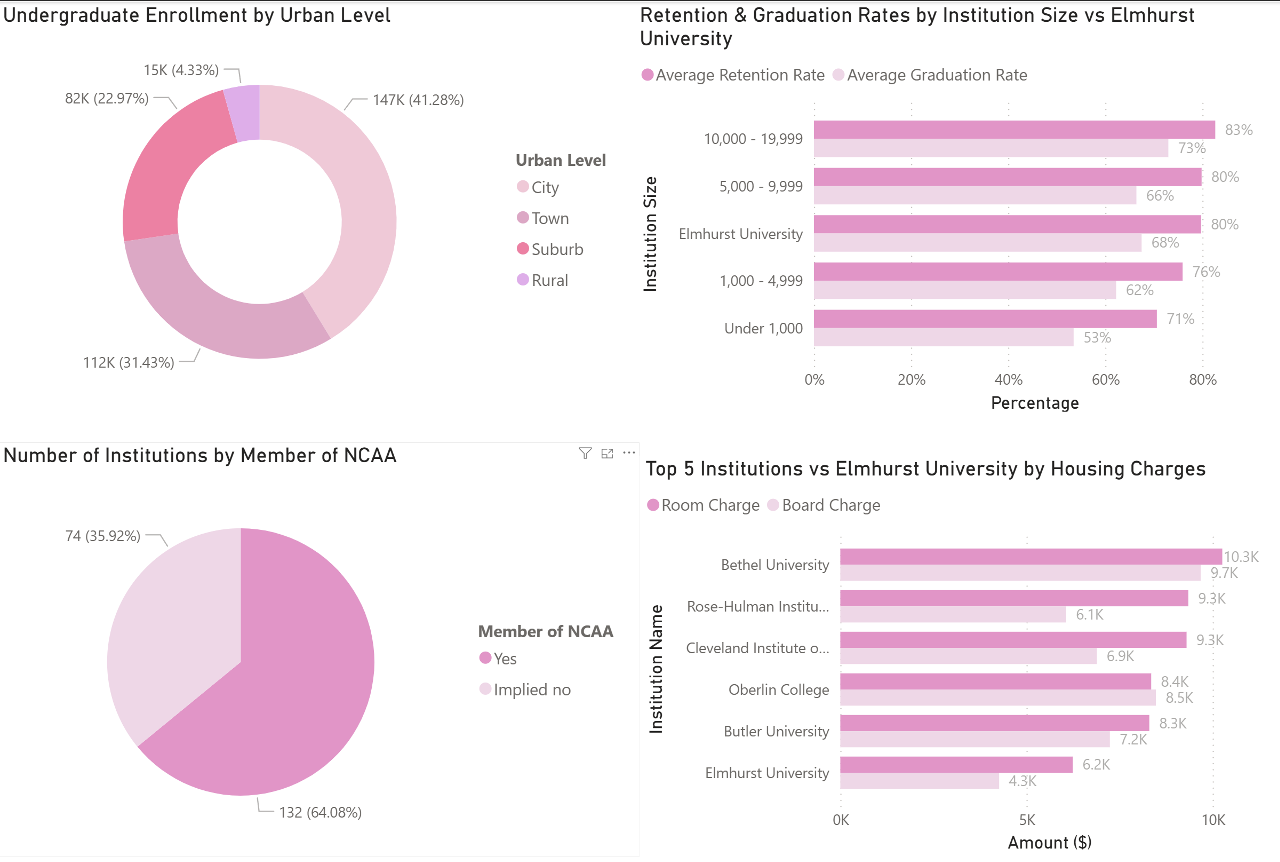

The dashboard page shown, as its layout file describes it:
{"tool":"powerbi","page":{"name":"2019 (2)","canvas":[1280,720],"ordinal":1},"visuals":[{"type":"pieChart","title":"Number of Institutions by Member of NCAA","fields":{"Y":["Sum(Table1.Column2)"],"Category":["Table1.Member of National Collegiate Athletic Association (NCAA)"]},"box":[0,359.7,525.1,338.7],"z":0},{"type":"clusteredBarChart","title":"Retention & Graduation Rates by Institution Size vs Elmhurst University","fields":{"Category":["SizeAndElmhurst.Institution size category"],"Y":["Sum(SizeAndElmhurst.Retention)","Sum(SizeAndElmhurst.Graduation)"]},"box":[520.5,0,525.8,339.4],"z":1000},{"type":"clusteredBarChart","title":"Top 5 Institutions vs Elmhurst University by Housing Charges","fields":{"Category":["Table1.institution name"],"Y":["Sum(Table1.Room Charge)","Sum(Table1.Board Charge)"]},"box":[525,371,521,328],"z":2000},{"type":"donutChart","title":"Undergraduate Enrollment by Urban Level","fields":{"Category":["Table1.Urbanization Hierarchy.Urban Level","Table1.Urbanization Hierarchy.Urban Detail"],"Y":["Sum(Table1.Undergraduate enrollment)"]},"box":[0,0,521,339],"z":3000}]}

Visuals, with their boxes on the page's 1280x720 design canvas (x1, y1, x2, y2). These are canvas units, not pixel positions in the 1280x862 screenshot, which may show the page scaled, cropped or inside an application window:
"Number of Institutions by Member of NCAA" pieChart: 0:360:525:698
"Retention & Graduation Rates by Institution Size vs Elmhurst University" clusteredBarChart: 520:0:1046:339
"Top 5 Institutions vs Elmhurst University by Housing Charges" clusteredBarChart: 525:371:1046:699
"Undergraduate Enrollment by Urban Level" donutChart: 0:0:521:339
